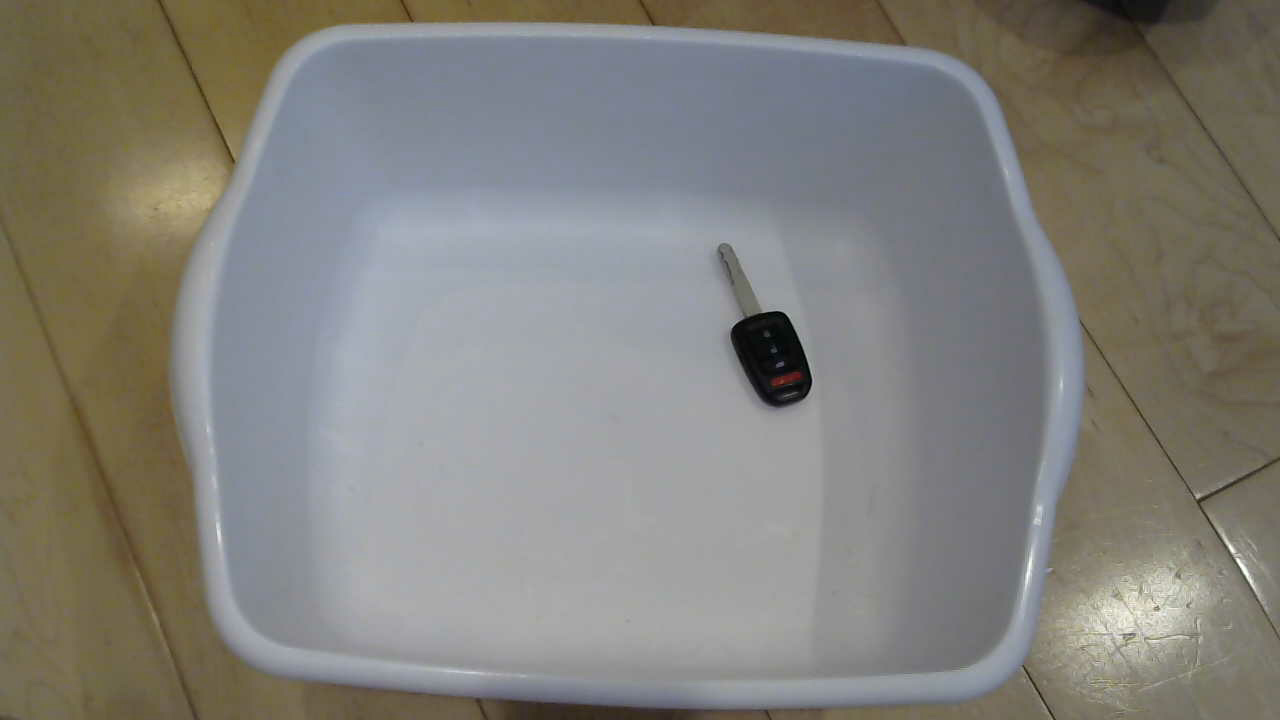key: (690, 238, 844, 412)
